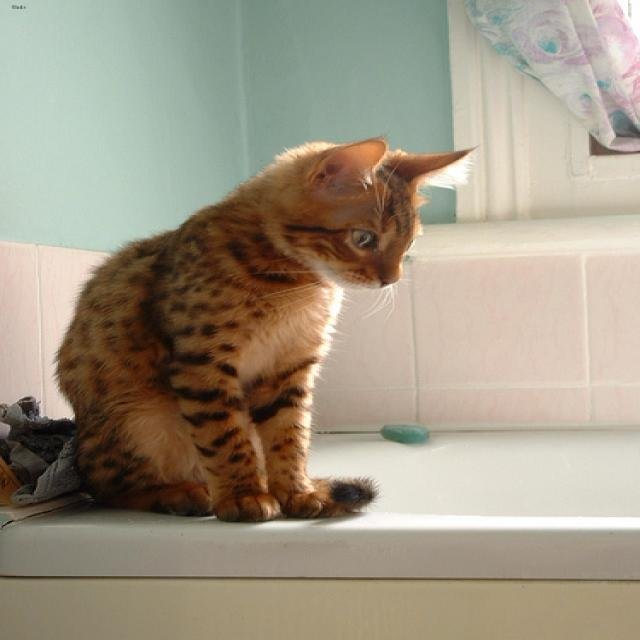Bengal: (253, 140, 469, 304)
